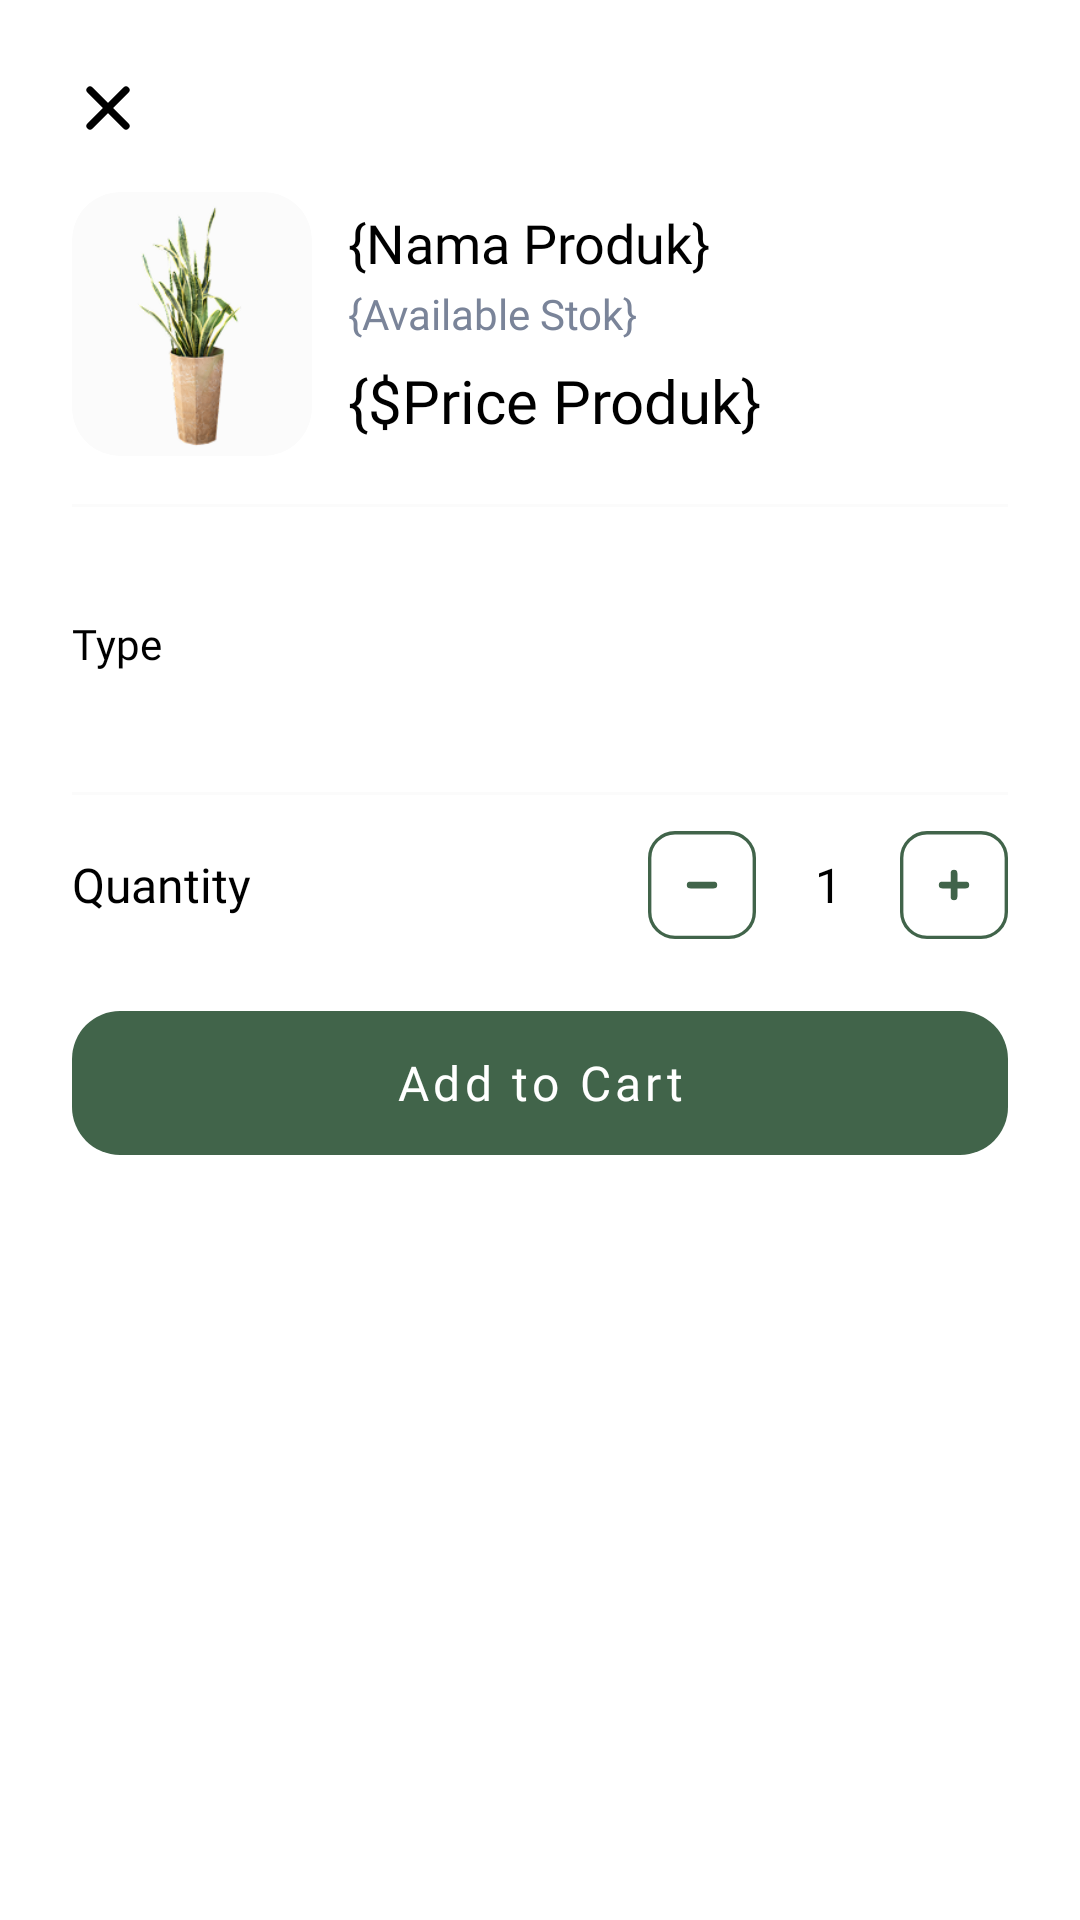

Locate icon controls on the screen. Image size 1080 x 1920, boxes as (x1, y1, x2, y2).
example plants: (139, 208, 240, 445)
